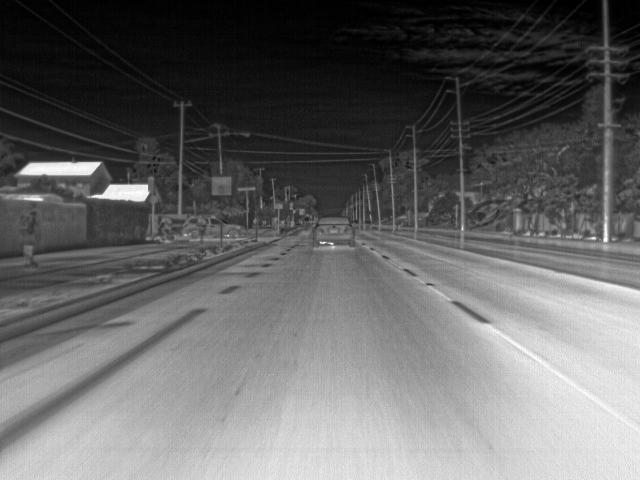car: (311, 216, 356, 248), (209, 215, 246, 240), (178, 213, 197, 240), (349, 219, 360, 229), (301, 216, 311, 225), (362, 221, 372, 229)
person: (22, 200, 42, 266), (195, 212, 209, 244)
